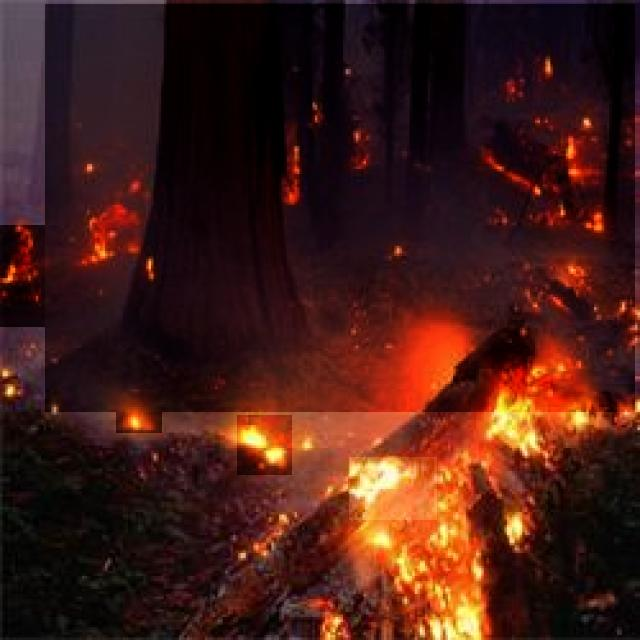Fire: (370, 535, 516, 640), (74, 201, 174, 283), (0, 225, 68, 328), (476, 380, 576, 450), (554, 135, 612, 243), (263, 129, 321, 227), (350, 457, 438, 520), (237, 415, 292, 475), (116, 394, 162, 433)
Smoke: (45, 4, 635, 412)
